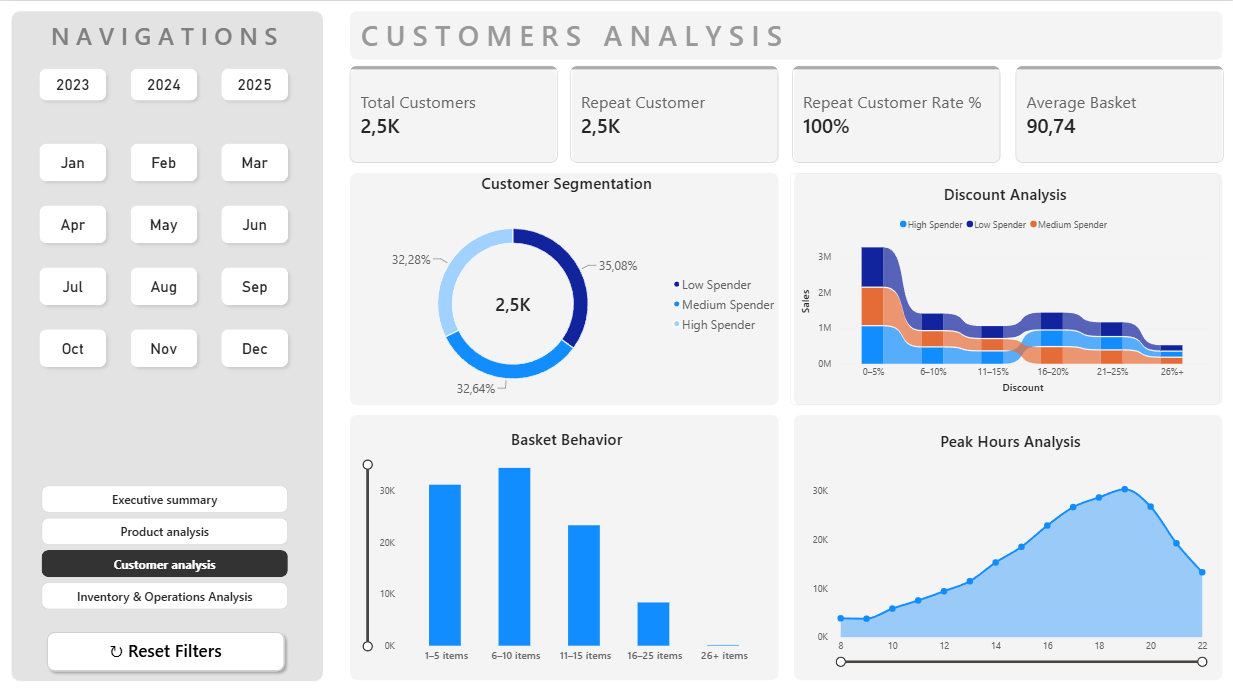

This screenshot's page, from the dashboard's own definition file:
{"tool":"powerbi","page":{"name":"Customer analysis","canvas":[1920,1080],"ordinal":2},"visuals":[{"type":"advancedSlicerVisual","fields":{"Values":["DimDate.MonthName"]},"box":[32.5,210,450,372.5],"z":0},{"type":"advancedSlicerVisual","fields":{"Values":["DimDate.Year"]},"box":[32.5,92.5,450,73.3],"z":1000},{"type":"textbox","box":[64.2,27.5,385,55.8],"z":2000},{"type":"textbox","box":[563.6,24.4,1058.9,58.6],"z":3000},{"type":"actionButton","box":[68.3,968.6,385,77.5],"z":4000},{"type":"cardVisual","fields":{"Data":["_Measures.Total Customers"]},"box":[539.2,95.2,334.3,161.8],"z":5000},{"type":"cardVisual","fields":{"Data":["_Measures.Repeat Customer"]},"box":[882.4,94.3,334.3,161.8],"z":6000},{"type":"cardVisual","fields":{"Data":["_Measures.Repeat Customer Rate %"]},"box":[1226.4,96,334.3,161.8],"z":7000},{"type":"cardVisual","fields":{"Data":["_Measures.Average Basket"]},"box":[1572.9,94.3,334.3,161.8],"z":8000},{"type":"donutChart","title":"Customer Segmentation","fields":{"Category":["DimCustomer.Segment"],"Y":["_Measures.Total Customers"]},"box":[551.4,265.9,661.2,360.3],"z":9000},{"type":"areaChart","title":"Peak Hours Analysis","fields":{"Category":["FactSales.OrderHour"],"Y":["CountNonNull(FactSales.OrderID)"]},"box":[1246.7,651.4,646.6,395.3],"z":10000},{"type":"clusteredColumnChart","title":"Basket Behavior","fields":{"Y":["CountNonNull(Basket Analysis.OrderID)"],"Category":["Basket Analysis.Basket Size Group"]},"box":[551.4,649,661.2,397.7],"z":11000},{"type":"ribbonChart","title":"Discount Analysis","fields":{"Y":["_Measures.Sales"],"Series":["DimCustomer.Segment"],"Category":["FactSales.Discount Group"]},"box":[1227.2,268.4,666.1,358.7],"z":12000},{"type":"pageNavigator","box":[67.5,750,382.5,195],"z":13000}]}

Visuals, with their boxes in screenshot pixels (x1, y1, x2, y2), scaled from the page's 1920x1080 canvas onto the 1233x694 screenshot:
advancedSlicerVisual - DimDate.MonthName: rect(21, 135, 310, 374)
advancedSlicerVisual - DimDate.Year: rect(21, 59, 310, 107)
textbox: rect(41, 18, 288, 54)
textbox: rect(362, 16, 1042, 53)
actionButton: rect(44, 622, 291, 672)
cardVisual - _Measures.Total Customers: rect(346, 61, 561, 165)
cardVisual - _Measures.Repeat Customer: rect(567, 61, 781, 165)
cardVisual - _Measures.Repeat Customer Rate %: rect(788, 62, 1002, 166)
cardVisual - _Measures.Average Basket: rect(1010, 61, 1225, 165)
"Customer Segmentation" donutChart: rect(354, 171, 779, 402)
"Peak Hours Analysis" areaChart: rect(801, 419, 1216, 673)
"Basket Behavior" clusteredColumnChart: rect(354, 417, 779, 673)
"Discount Analysis" ribbonChart: rect(788, 172, 1216, 403)
pageNavigator: rect(43, 482, 289, 607)
